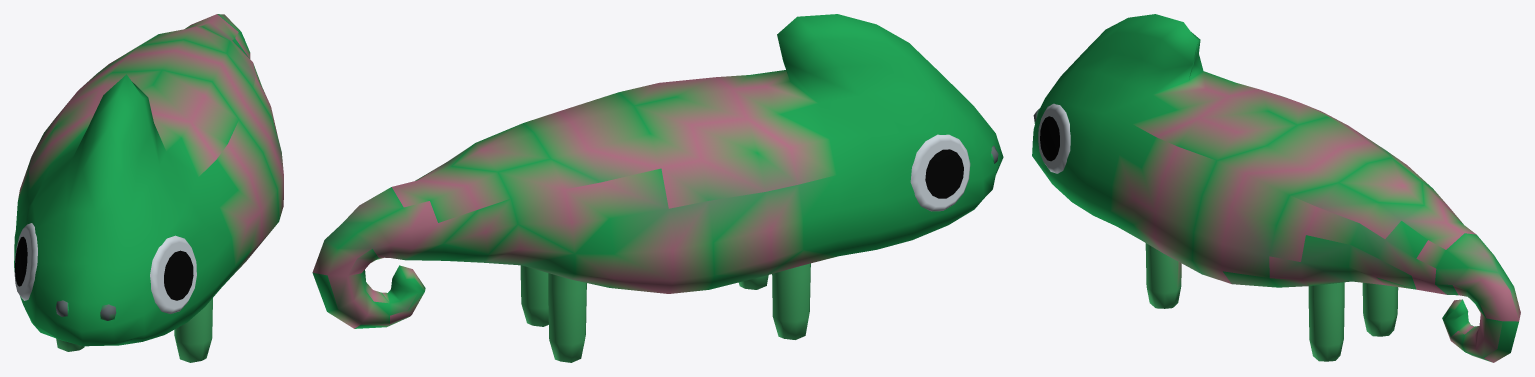
File: Chameleon.glb
3 views of the same model, side by side, from view 1: azimuth 30°, elevation 25°; view 2: azimuth 150°, elevation 25°; view 3: azimuth 270°, elevation 25° (orthographic). The views are drawn at different scales.
Parts seen in each view (by area): view 1: 24; view 2: 24; view 3: 24.
Part boxes in pixels (x1,y1,x2,y2): 24: (14,14,283,362); 24: (312,14,1003,362); 24: (1032,14,1520,362).
Size of the model in its own units: 0.7217 by 0.4626 by 0.7824.
